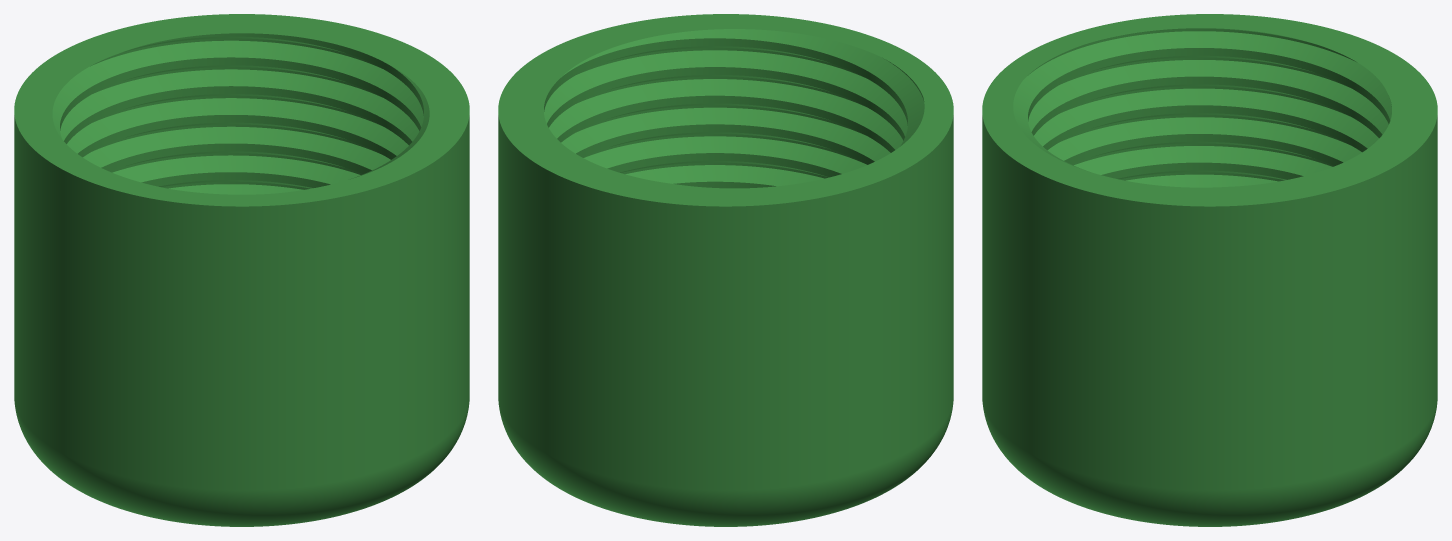
File: Cap.obj
3 views of the same model, side by side, from view 1: azimuth 30°, elevation 25°; view 2: azimuth 150°, elevation 25°; view 3: azimuth 270°, elevation 25° (orthographic).
Visible parts, largest first — view 1: Body1; view 2: Body1; view 3: Body1.
Part boxes in pixels (bbox=[...]): Body1: bbox=[14, 14, 469, 526]; Body1: bbox=[498, 14, 953, 526]; Body1: bbox=[982, 14, 1437, 526].
Size of the model in its own units: 28.79 by 23.8 by 28.79.
